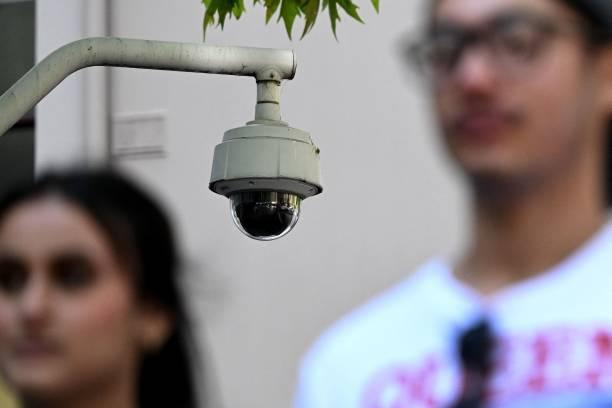camera: (190, 96, 355, 254)
